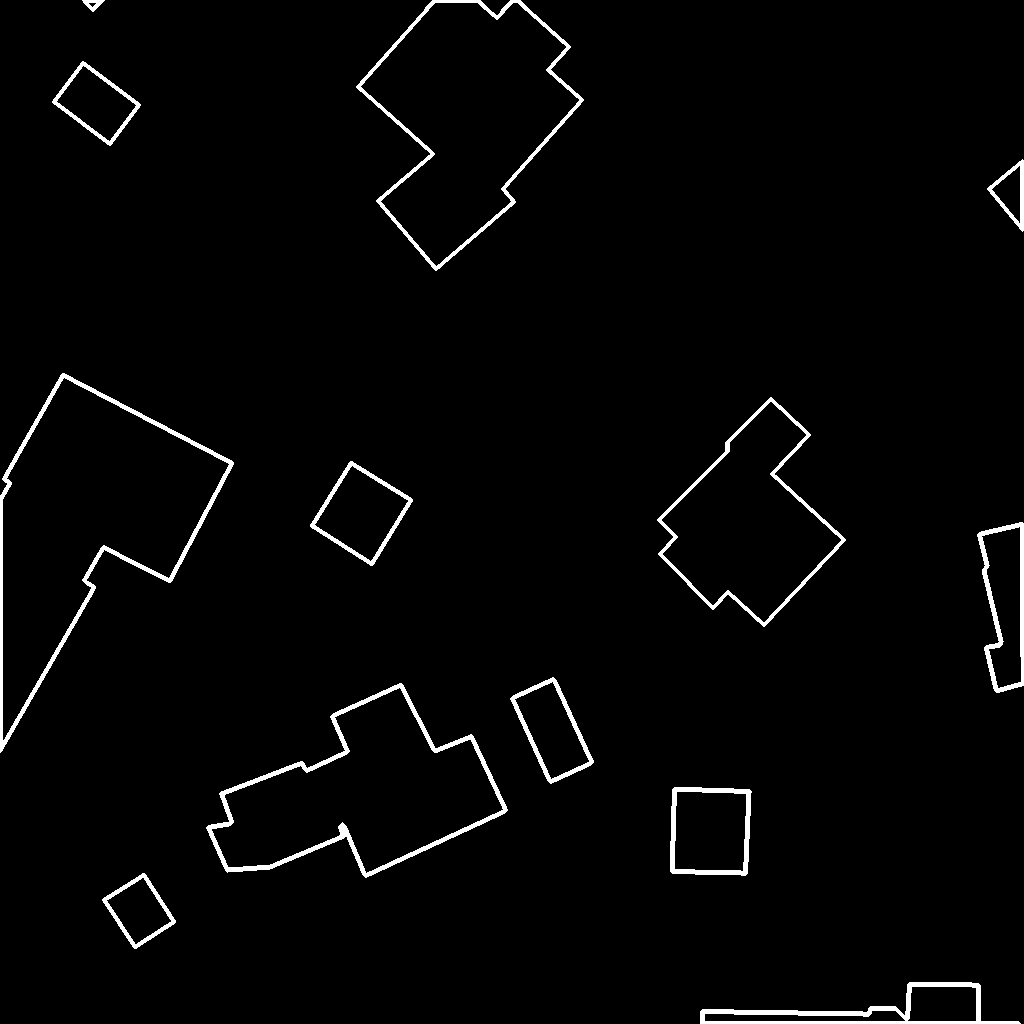building: (0, 375, 233, 752), (358, 0, 583, 270), (208, 685, 507, 877), (659, 399, 845, 626), (702, 984, 1024, 1024), (312, 463, 412, 565), (512, 679, 593, 783), (979, 524, 1024, 692), (54, 63, 140, 145), (672, 789, 750, 874), (104, 875, 175, 948), (989, 161, 1024, 231), (83, 0, 104, 11)
